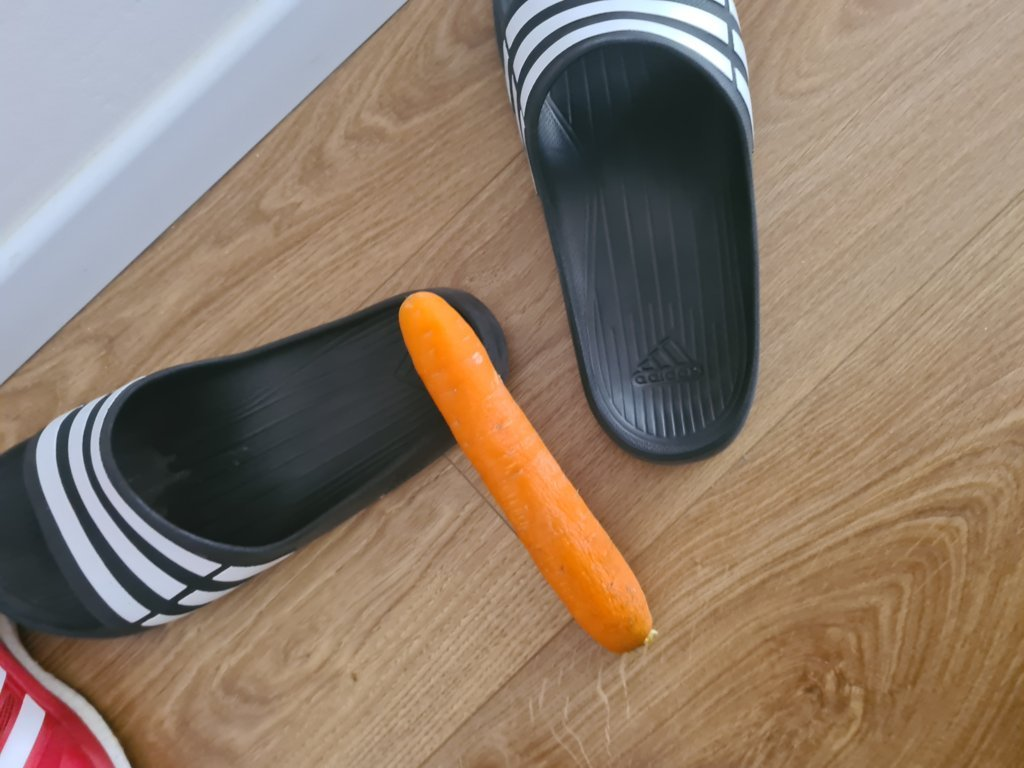carrot: (407, 287, 660, 643)
